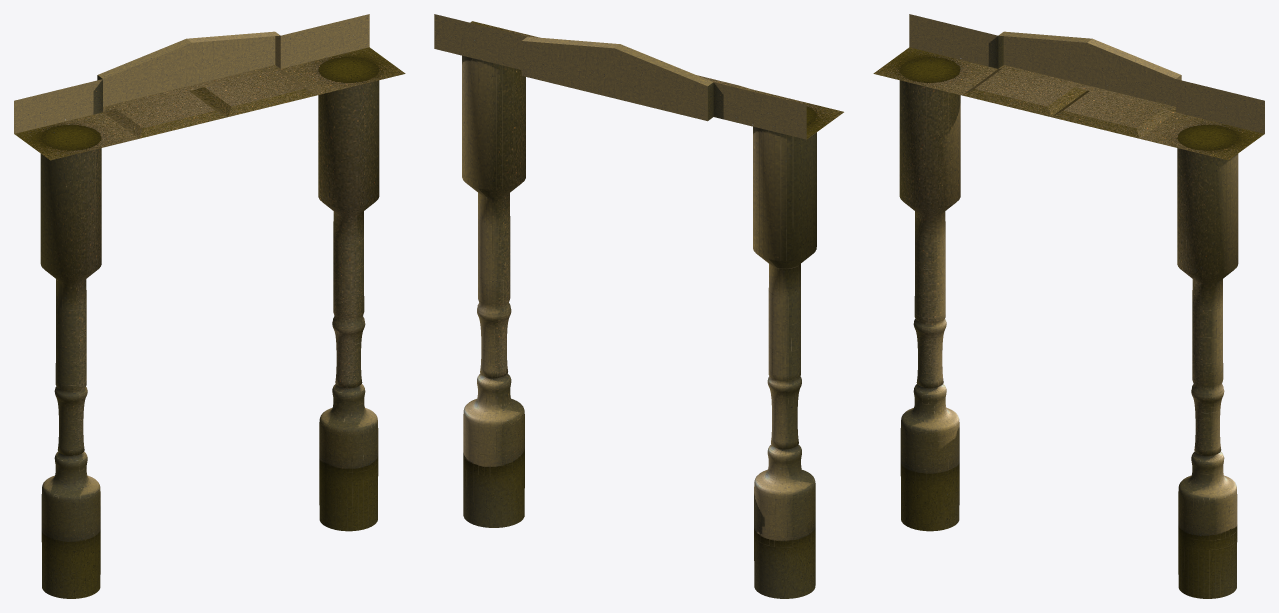
Rendered from scenery_block_1.glb.
3 views of the same model, side by side, from view 1: azimuth 30°, elevation 25°; view 2: azimuth 150°, elevation 25°; view 3: azimuth 330°, elevation 25° (orthographic). The views are drawn at different scales.
Visible parts, largest first — view 1: SceneryBlock1; view 2: SceneryBlock1; view 3: SceneryBlock1.
Part boxes in pixels (x1,y1,x2,y2): SceneryBlock1: (14, 14, 405, 598); SceneryBlock1: (434, 14, 843, 598); SceneryBlock1: (873, 14, 1264, 598).
Bounding box in the file's own units: 22.35 × 29.84 × 4.55.
Materials: 1 (1 with a texture image).
